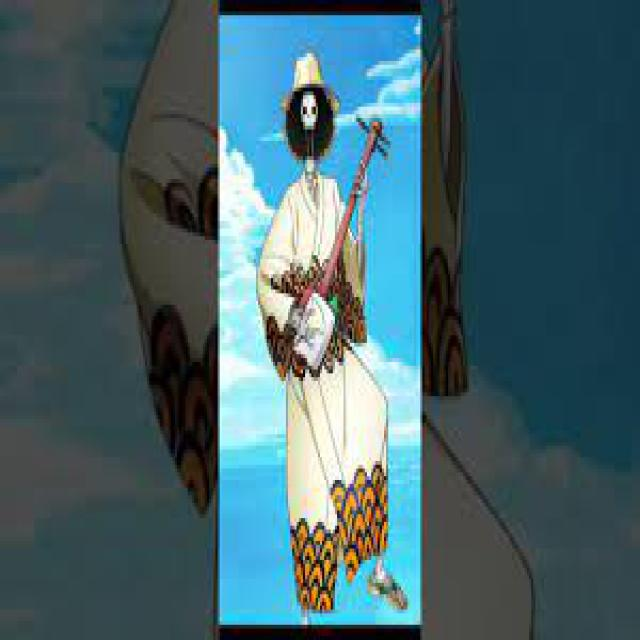Brook: (256, 53, 405, 621)
